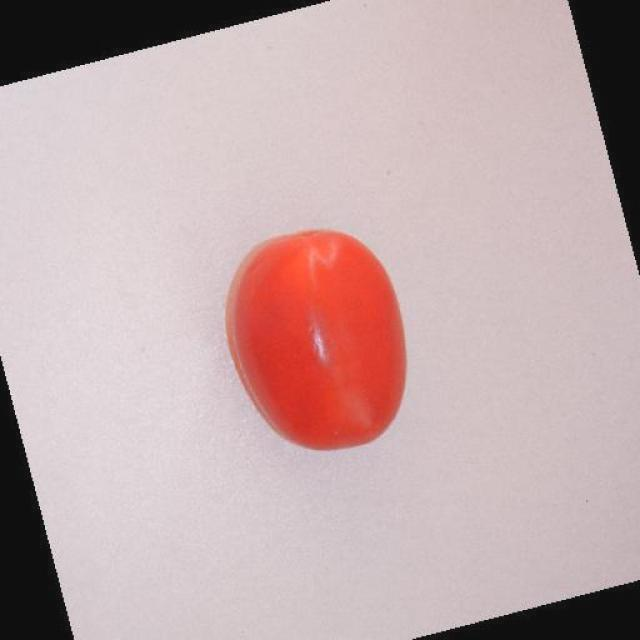tomato: (208, 210, 432, 483)
